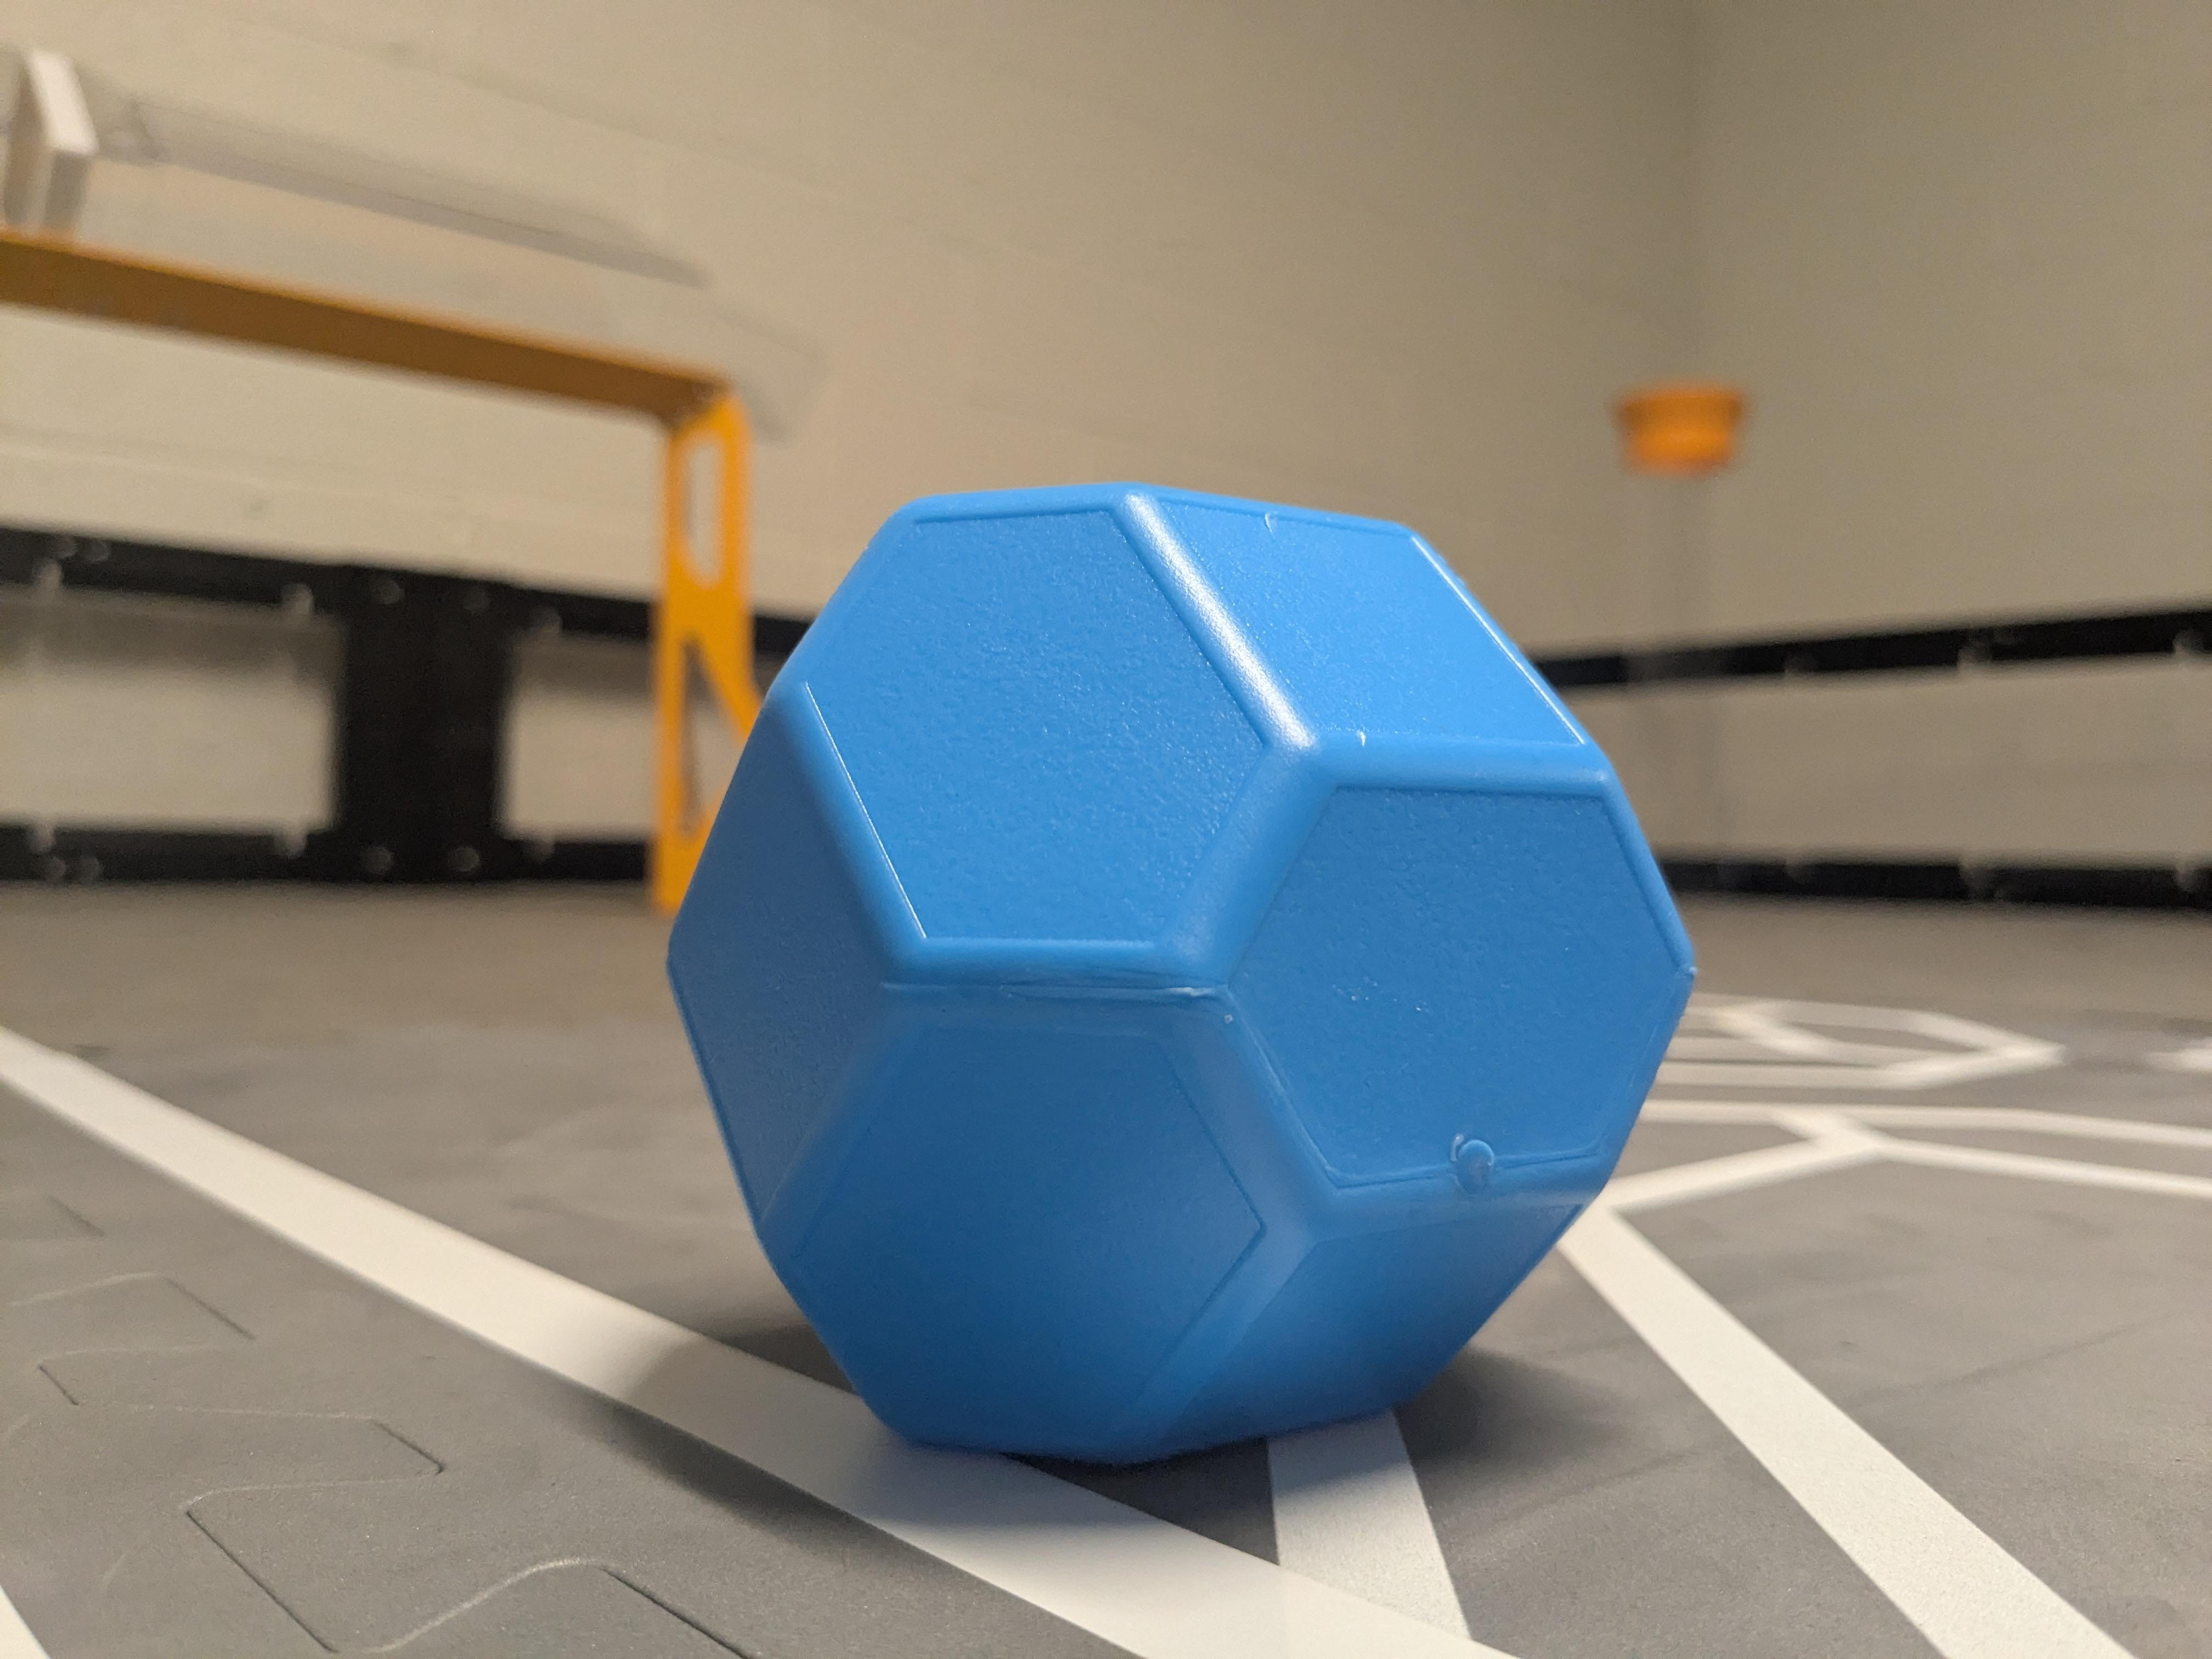Vex-Pieces-BLUE: (671, 484, 1693, 1462)
